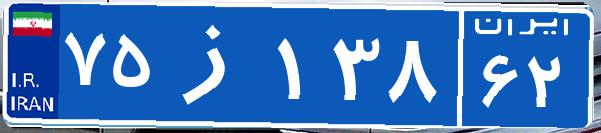1: (273, 28, 330, 110)
2: (525, 38, 570, 115)
3: (330, 28, 385, 110)
5: (110, 28, 158, 105)
6: (475, 38, 525, 113)
7: (57, 26, 110, 107)
8: (385, 28, 445, 110)
ز: (158, 15, 273, 115)
